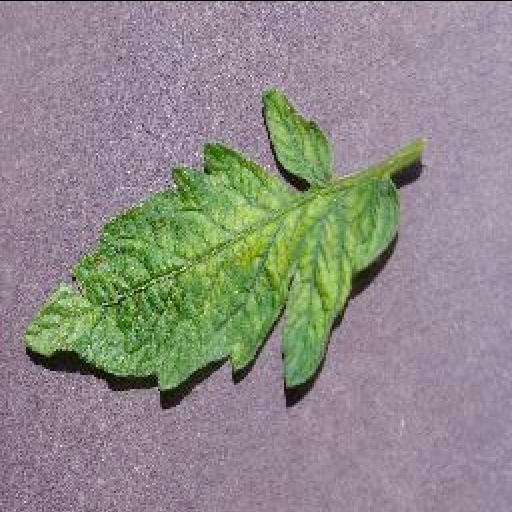disease_tomato: (12, 86, 398, 398)
